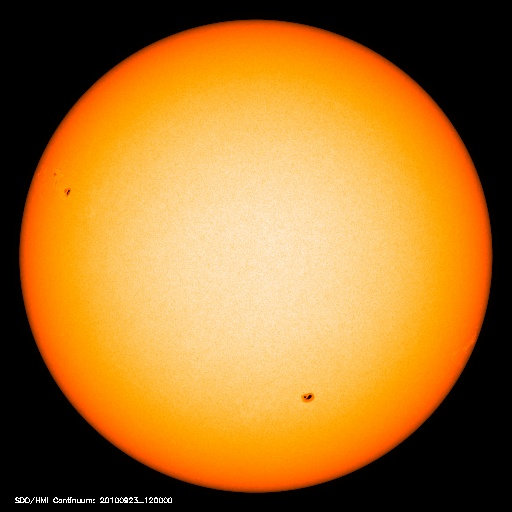sunspot: (46, 162, 81, 205), (290, 379, 325, 415)
